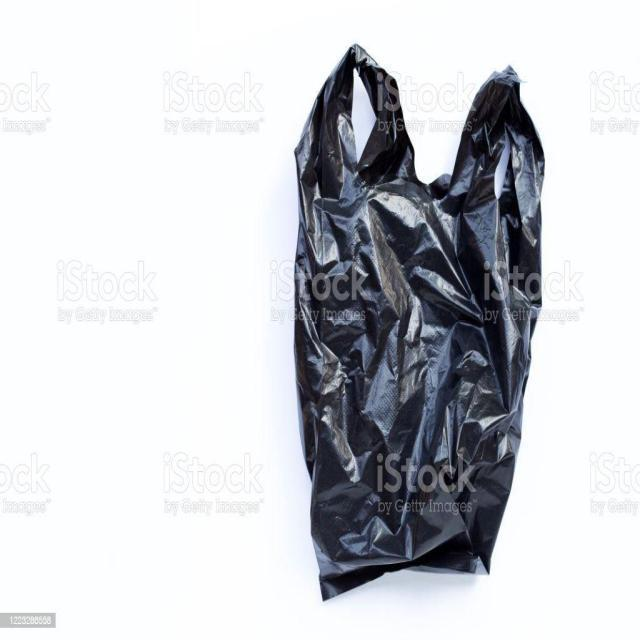Plastic_Bag: (291, 46, 542, 598)
